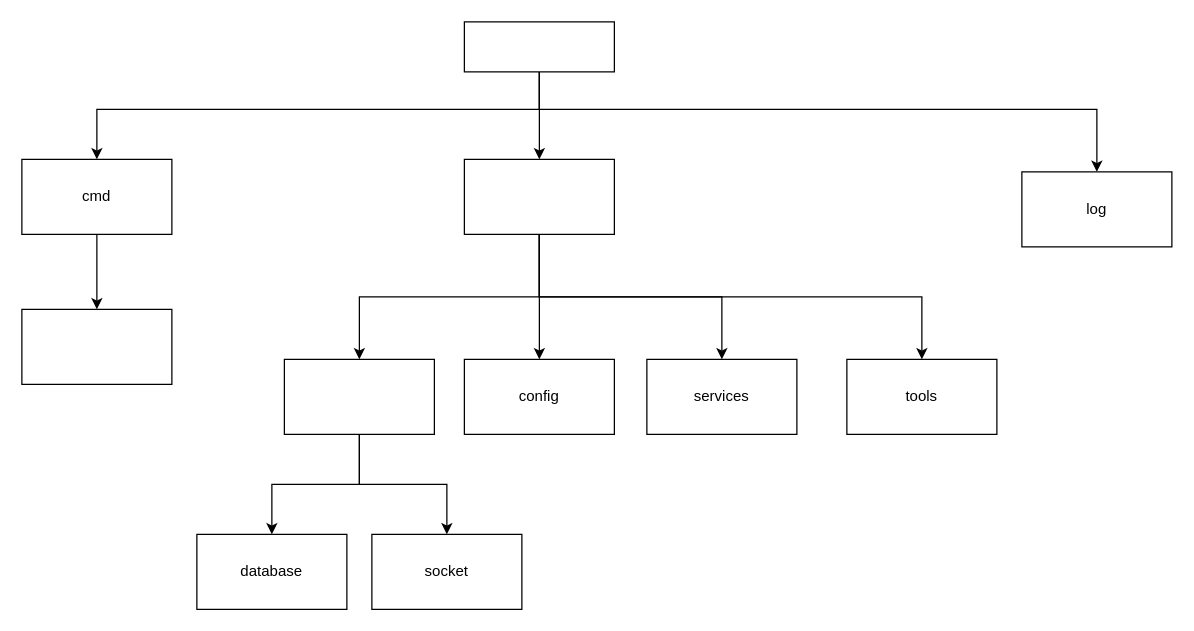
Some shapes in this 1194 by 631 pixel diagram are drawn without their labels. Here are the shapes that lost their labels. From the top down, the centre of each, then its label:
At point 538,46: "src".
At point 538,196: "pkg".
At point 96,346: "main".
At point 358,396: "interfaces".
